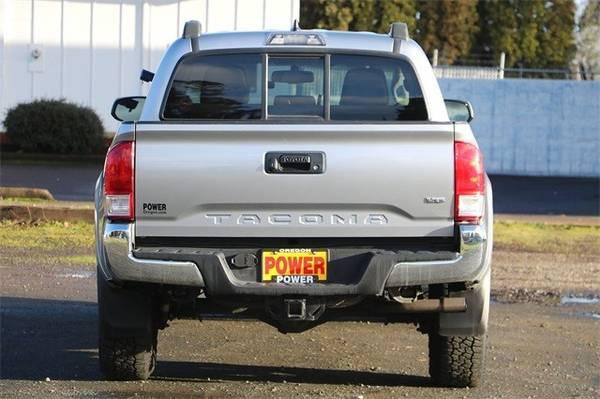Left_Taillight: (97, 140, 134, 225)
Rear_Bumper: (99, 224, 496, 309)
Rear_Windshield: (157, 50, 427, 126)
Right_Taillight: (455, 142, 488, 224)
Roof: (136, 31, 450, 126)
Tailgate: (114, 126, 479, 251)
Wheel: (98, 273, 163, 377), (425, 332, 485, 389)
